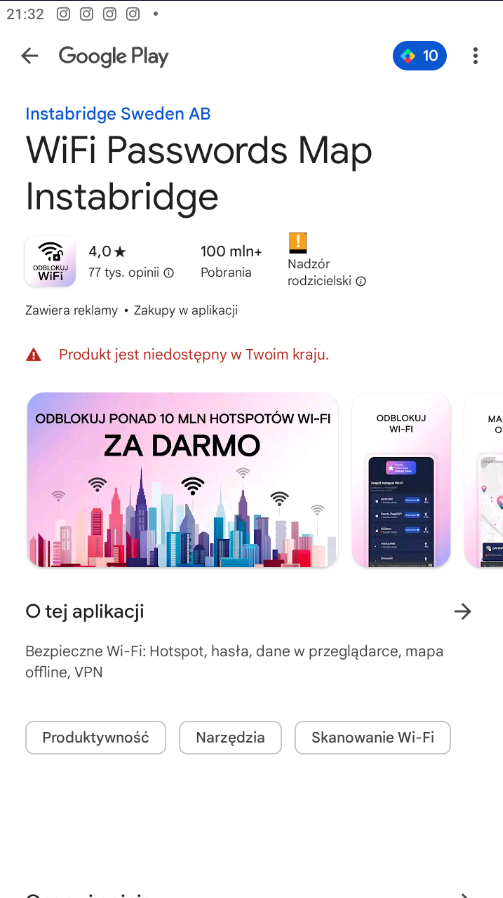store_logo: (54, 39, 179, 73)
